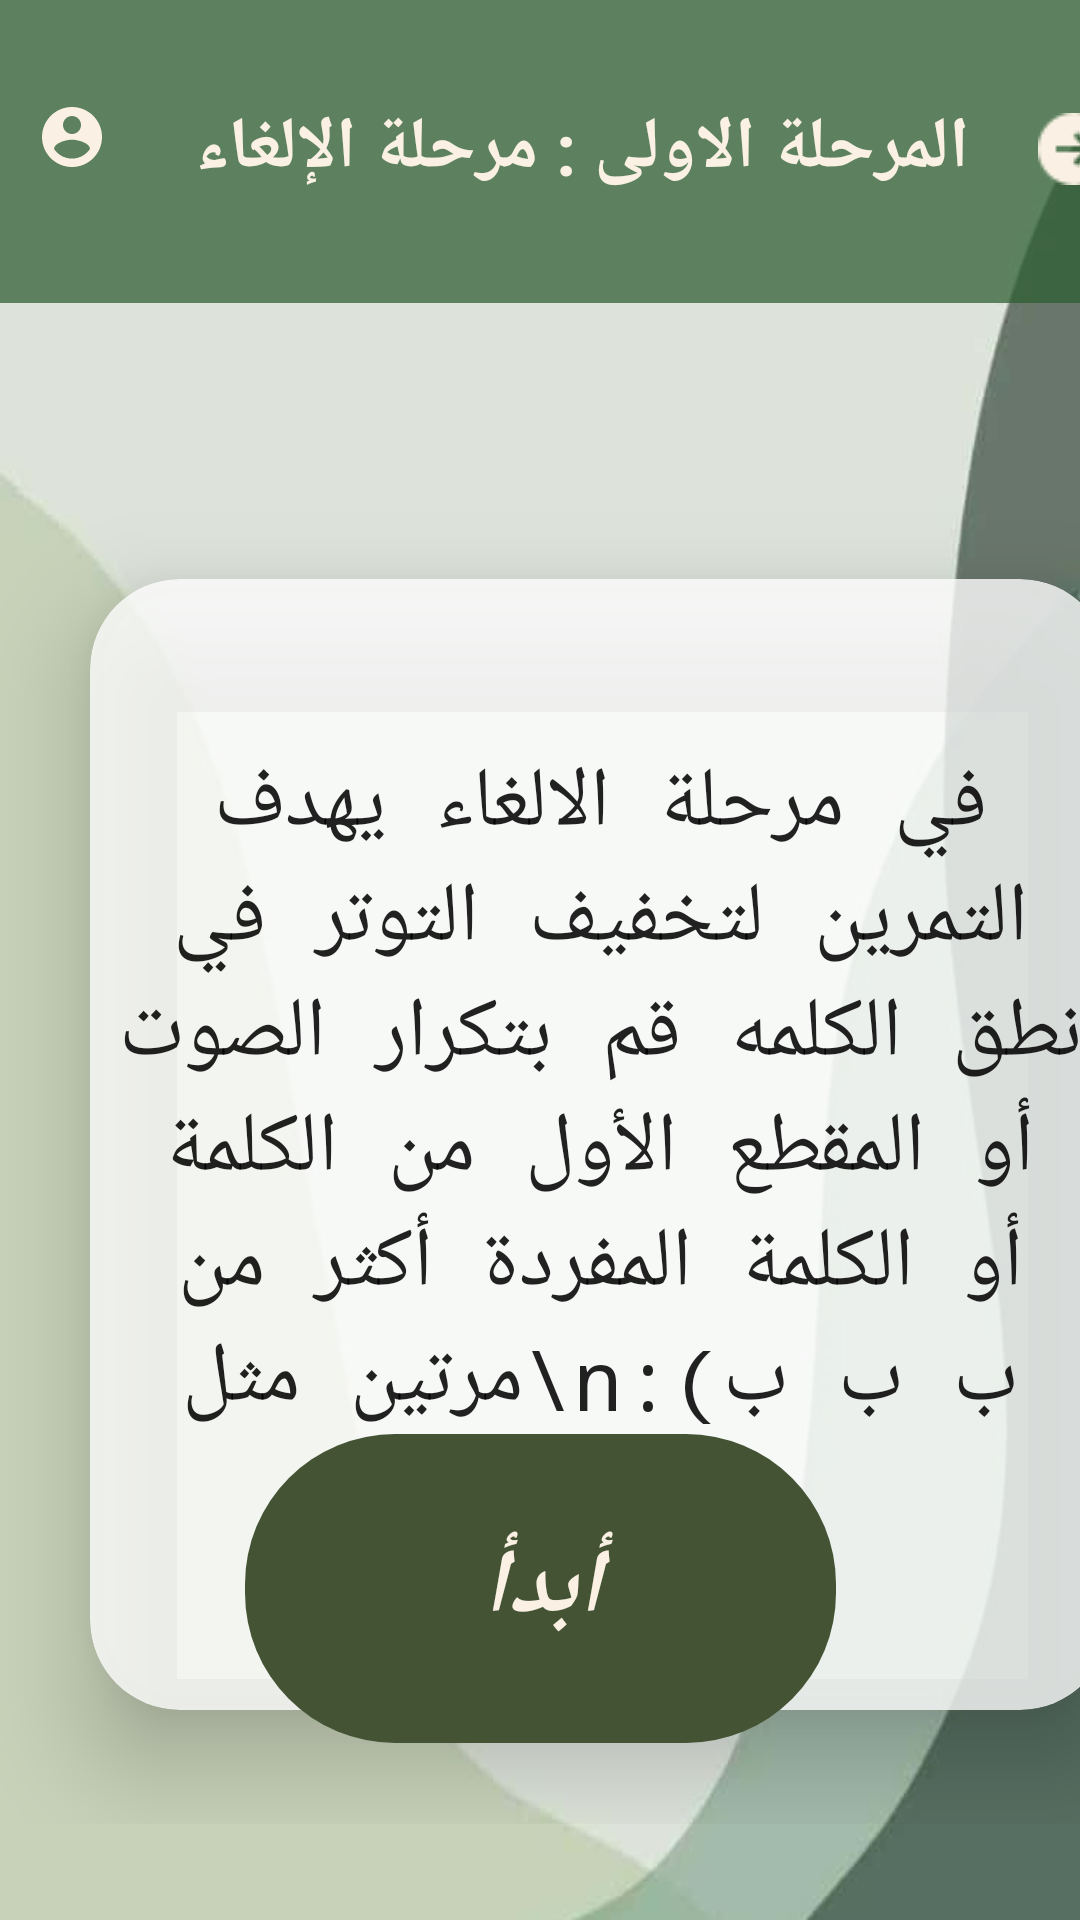

Screen size 1080*1920. Icon name, then its box in pixels as bbox=[x1, y1, x2, y2]:
account: bbox=[42, 107, 102, 167]
